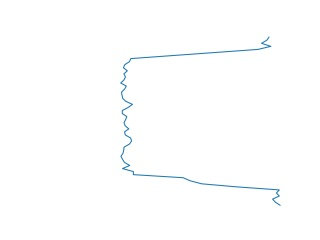distributaryChannelFill: (114, 37, 287, 206)
